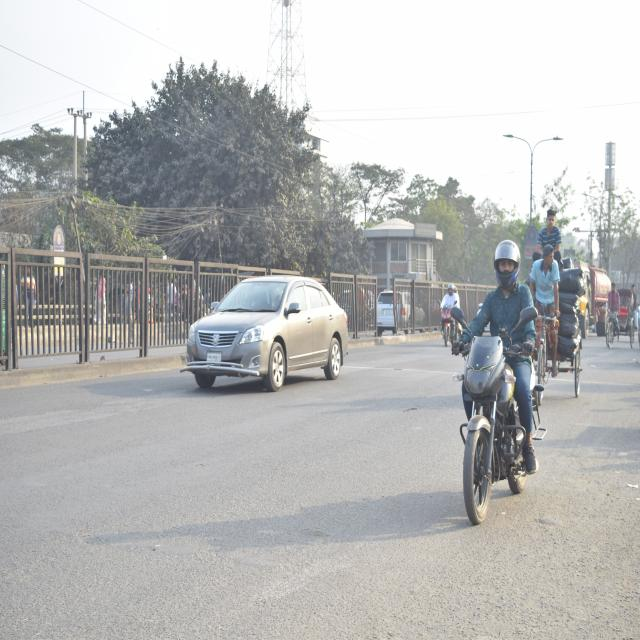car: (185, 266, 351, 403)
motorbike: (461, 310, 546, 536), (435, 300, 460, 366)
truck: (574, 255, 614, 342)
